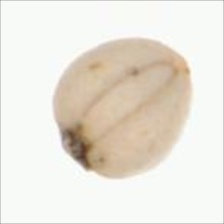L5: (79, 61, 178, 143), (54, 117, 98, 174), (166, 48, 194, 83)
L6: (51, 35, 199, 181)
